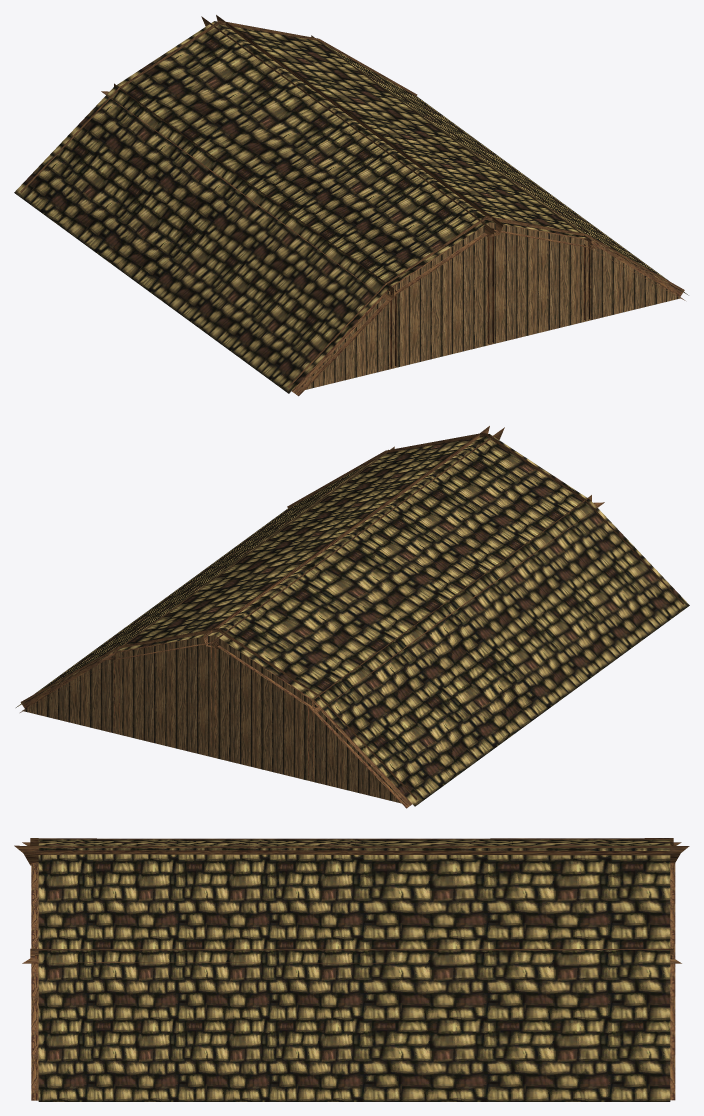
File: LAKETOWN_WAREHOUSE2_PS_WH2_BARNROOF9948__GX.fbx
3 views of the same model, one above another, from view 1: azimuth 30°, elevation 25°; view 2: azimuth 150°, elevation 25°; view 3: azimuth 270°, elevation 25° (orthographic). The views are drawn at different scales.
Parts seen in each view (by area): view 1: LAKETOWN_WAREHOUSE2_PS_WH2_BARNROOF9948__GX; view 2: LAKETOWN_WAREHOUSE2_PS_WH2_BARNROOF9948__GX; view 3: LAKETOWN_WAREHOUSE2_PS_WH2_BARNROOF9948__GX.
Boxes of the visible parts, x1,y1,x2,y2 form: LAKETOWN_WAREHOUSE2_PS_WH2_BARNROOF9948__GX: (14, 15, 688, 396); LAKETOWN_WAREHOUSE2_PS_WH2_BARNROOF9948__GX: (16, 426, 689, 808); LAKETOWN_WAREHOUSE2_PS_WH2_BARNROOF9948__GX: (14, 838, 689, 1101).
Bounding box in the file's own units: 200625 × 61314 × 254975.
Materials: 4 (4 with a texture image).
